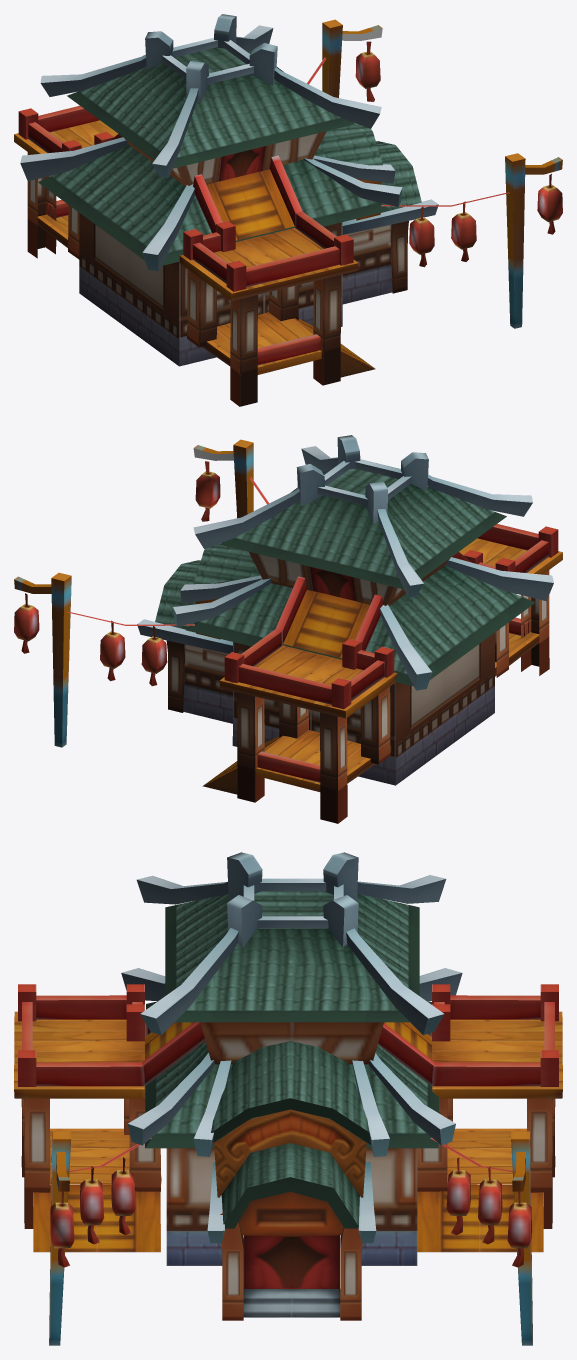
Rendered from zhucheng01_jiuguan01.FBX.
3 renders of one model, top to bottom at view 1: azimuth 30°, elevation 25°; view 2: azimuth 150°, elevation 25°; view 3: azimuth 270°, elevation 25°, orthographic. The views are drawn at different scales.
Visible parts, largest first — view 1: Object03, Object04, Object21; view 2: Object03, Object04, Object08; view 3: Object03, Object04.
Boxes of the visible parts, x1=… form: Object03: x1=14, y1=14, x2=562, y2=406; Object04: x1=38, y1=47, x2=421, y2=265; Object21: x1=218, y1=146, x2=265, y2=181; Object03: x1=14, y1=435, x2=562, y2=823; Object04: x1=155, y1=468, x2=535, y2=686; Object08: x1=309, y1=566, x2=356, y2=601; Object03: x1=14, y1=852, x2=562, y2=1345; Object04: x1=145, y1=891, x2=438, y2=1228.
Size of the model in its own units: 24.29 by 16.13 by 23.61.
